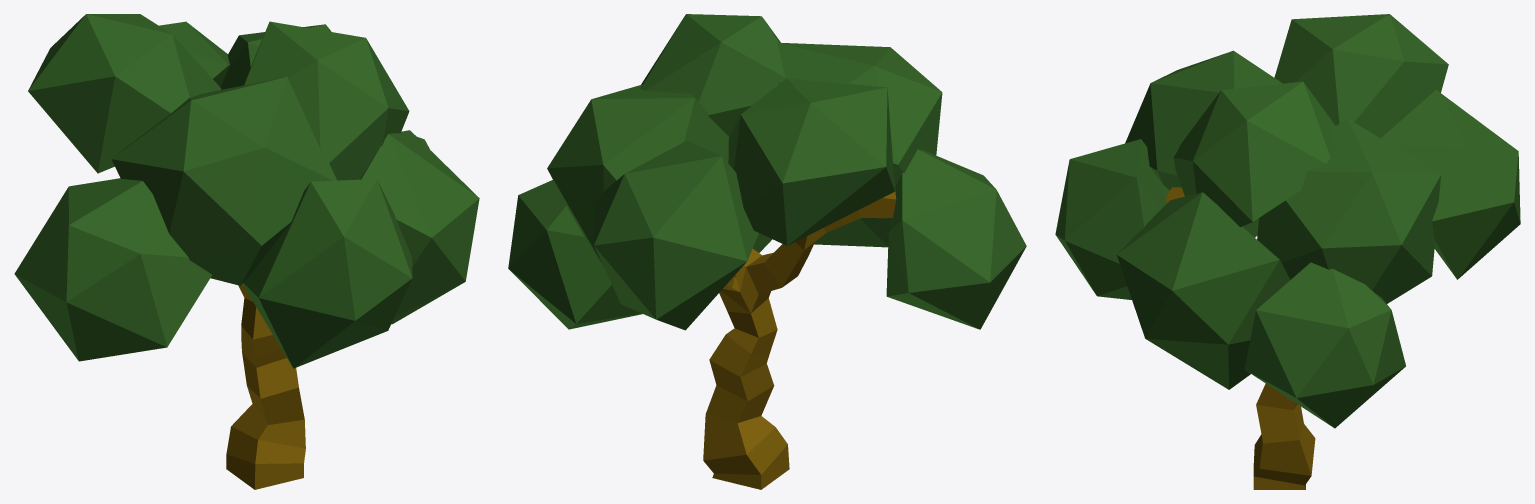
File: tree_with_leafes.fbx
3 views of the same model, side by side, from view 1: azimuth 30°, elevation 25°; view 2: azimuth 150°, elevation 25°; view 3: azimuth 270°, elevation 25° (orthographic). The views are drawn at different scales.
Parts seen in each view (by area): view 1: Cube.002; view 2: Cube.002; view 3: Cube.002.
Part boxes in pixels (left/top/right/bottom): Cube.002: left=14, top=14, right=479, bottom=489; Cube.002: left=508, top=14, right=1026, bottom=489; Cube.002: left=1055, top=14, right=1520, bottom=489.
Size of the model in its own units: 9608 by 8906 by 9136.
